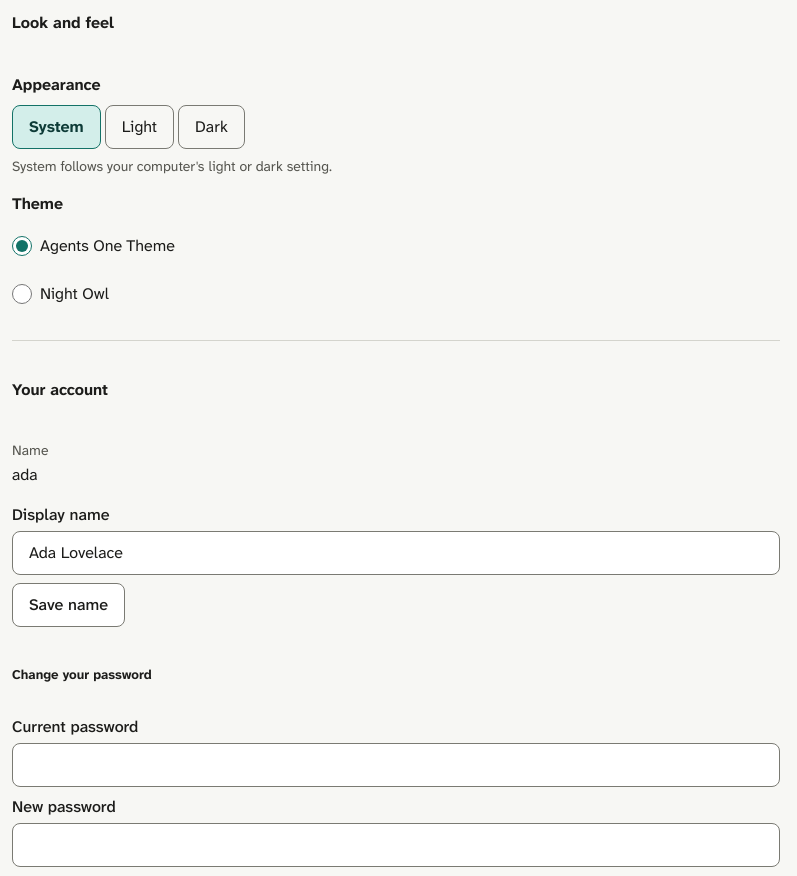
Settings, look and feel › explains a failed theme save in the daemon's words
The width and height of the screenshot is (797, 876).
Click the radio button labelled "Night Owl": click(22, 294) [12,284,32,304]
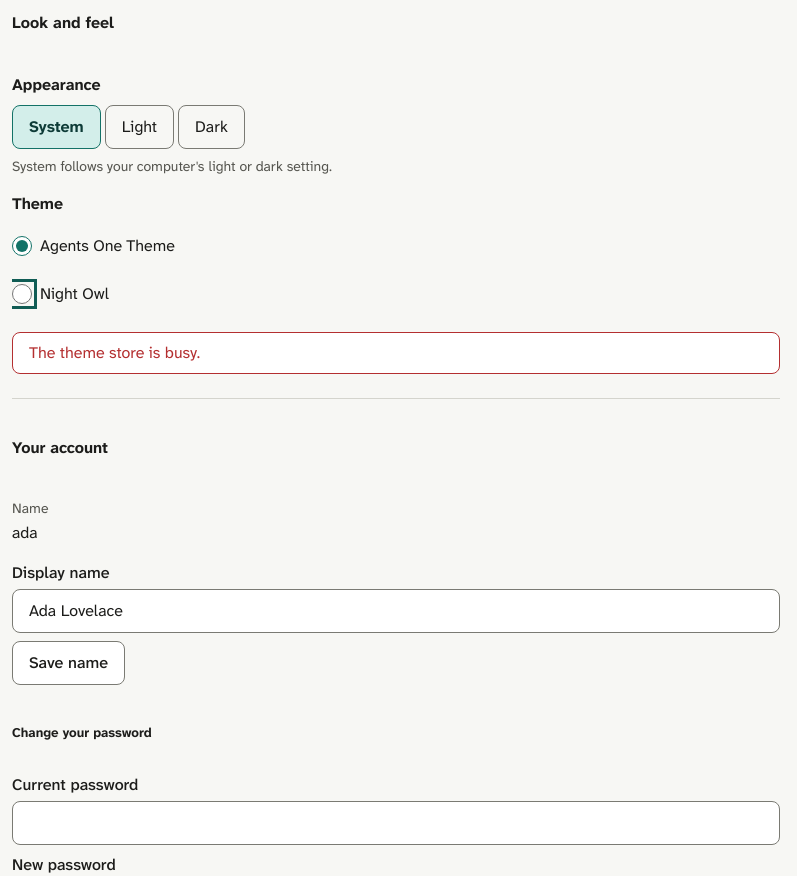
Result: the text "The theme store is busy." is shown at [12,332,780,374]
